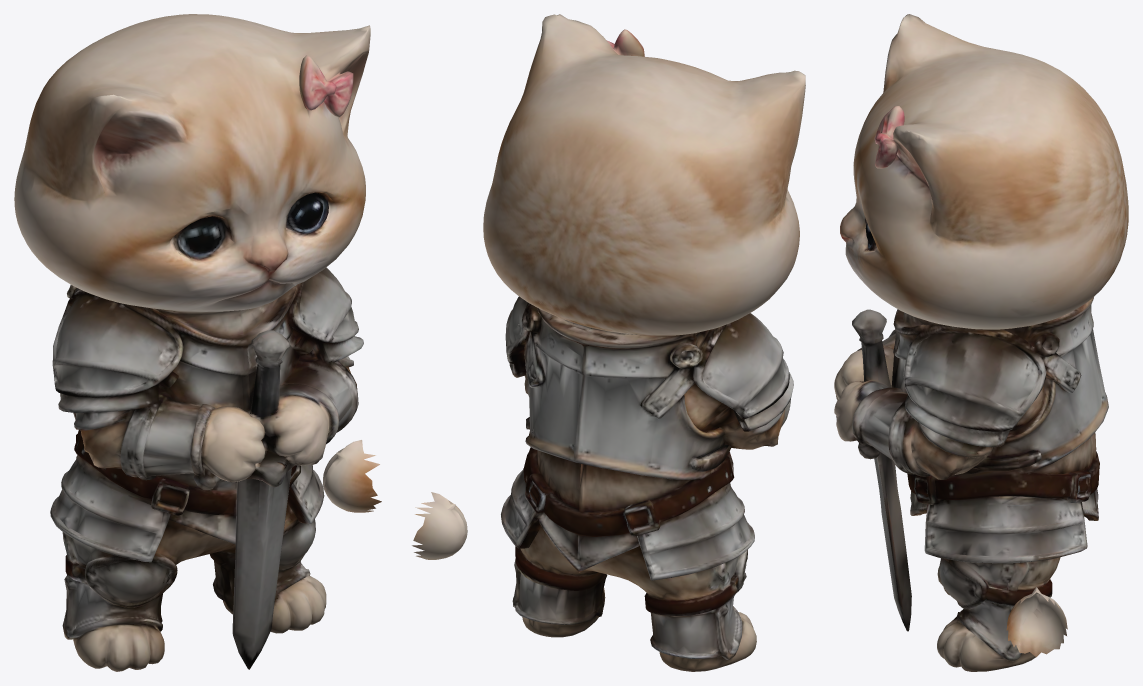
Rendered from cat.glb.
3 views of the same model, side by side, from view 1: azimuth 30°, elevation 25°; view 2: azimuth 150°, elevation 25°; view 3: azimuth 270°, elevation 25° (orthographic). The views are drawn at different scales.
Visible parts, largest first — view 1: cat-knight-front; view 2: cat-knight-front; view 3: cat-knight-front.
Boxes of the visible parts, bbox=[...] form: cat-knight-front: bbox=[14, 14, 381, 671]; cat-knight-front: bbox=[412, 14, 805, 671]; cat-knight-front: bbox=[834, 14, 1128, 671].
Size of the model in its own units: 0.357 by 0.5821 by 0.2804.
Materials: 1 (1 with a texture image).
